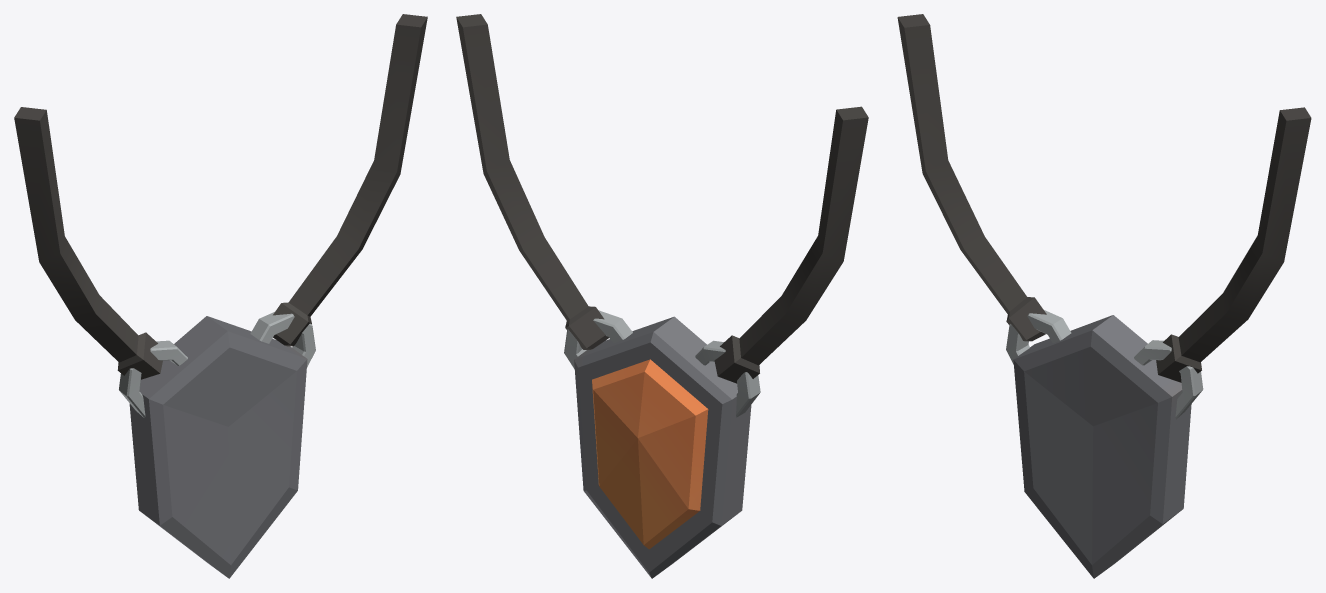
Rendered from genericPendant.fbx.
3 views of the same model, side by side, from view 1: azimuth 30°, elevation 25°; view 2: azimuth 150°, elevation 25°; view 3: azimuth 330°, elevation 25° (orthographic).
Parts seen in each view (by area): view 1: genericPendant; view 2: genericPendant; view 3: genericPendant.
Part boxes in pixels (bbox=[...]): genericPendant: bbox=[14, 14, 427, 578]; genericPendant: bbox=[456, 14, 868, 578]; genericPendant: bbox=[897, 14, 1311, 578].
Size of the model in its own units: 1.89 by 2.2 by 0.2989.
Materials: 1 (1 with a texture image).
